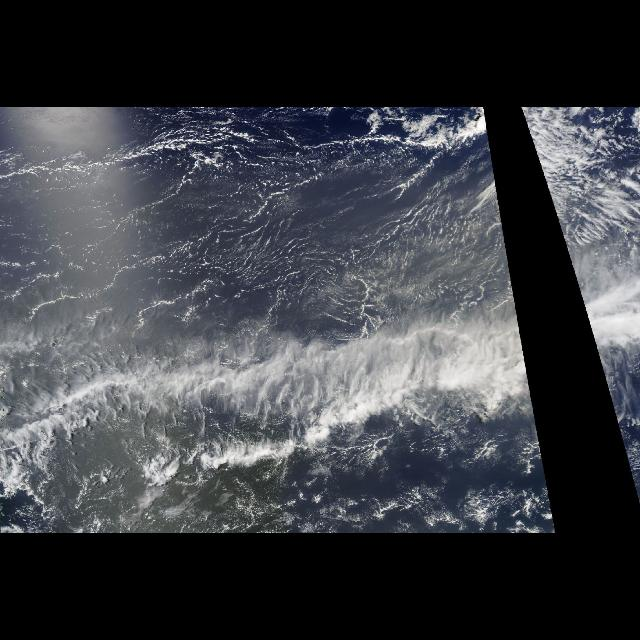Sugar: (25, 140, 463, 348)
